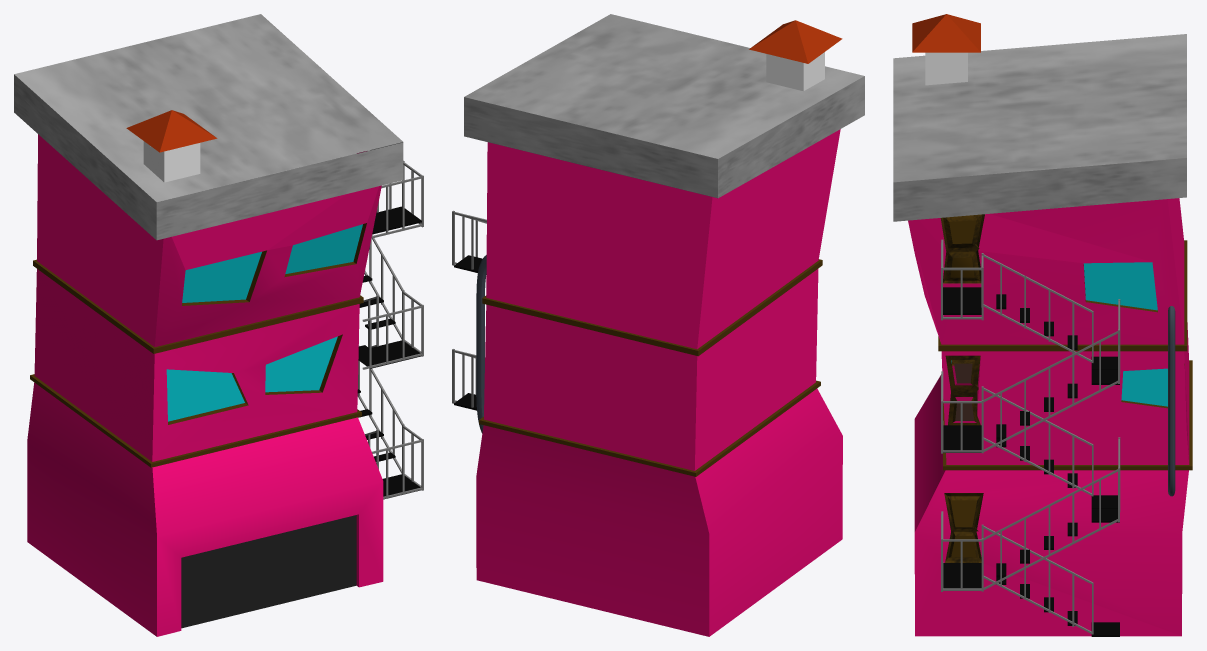
File: PredioTorto-RosaLOD0.fbx
The picture shows the model from 3 angles, left to right: view 1: azimuth 30°, elevation 25°; view 2: azimuth 150°, elevation 25°; view 3: azimuth 270°, elevation 25°; orthographic projection. The views are drawn at different scales.
Visible parts, largest first — view 1: Predio3Andares; view 2: Predio3Andares; view 3: Predio3Andares.
Boxes of the visible parts, left/top/right/bottom form: Predio3Andares: left=14, top=14, right=423, bottom=636; Predio3Andares: left=452, top=14, right=864, bottom=636; Predio3Andares: left=893, top=14, right=1192, bottom=636.
Bounding box in the file's own units: 1035 × 1727 × 895.
